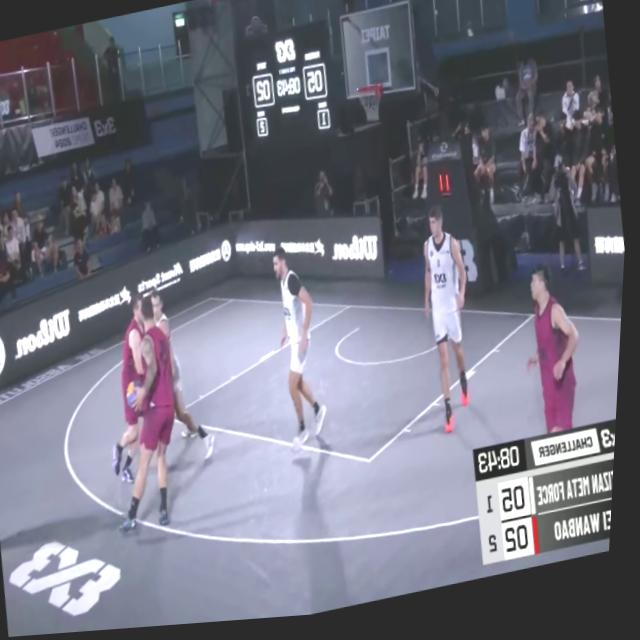ball: (129, 386, 145, 412)
hoop: (356, 87, 390, 131)
player: (90, 295, 201, 542), (407, 203, 493, 442), (93, 288, 181, 498), (143, 281, 232, 480), (267, 244, 341, 455), (515, 269, 599, 446)
